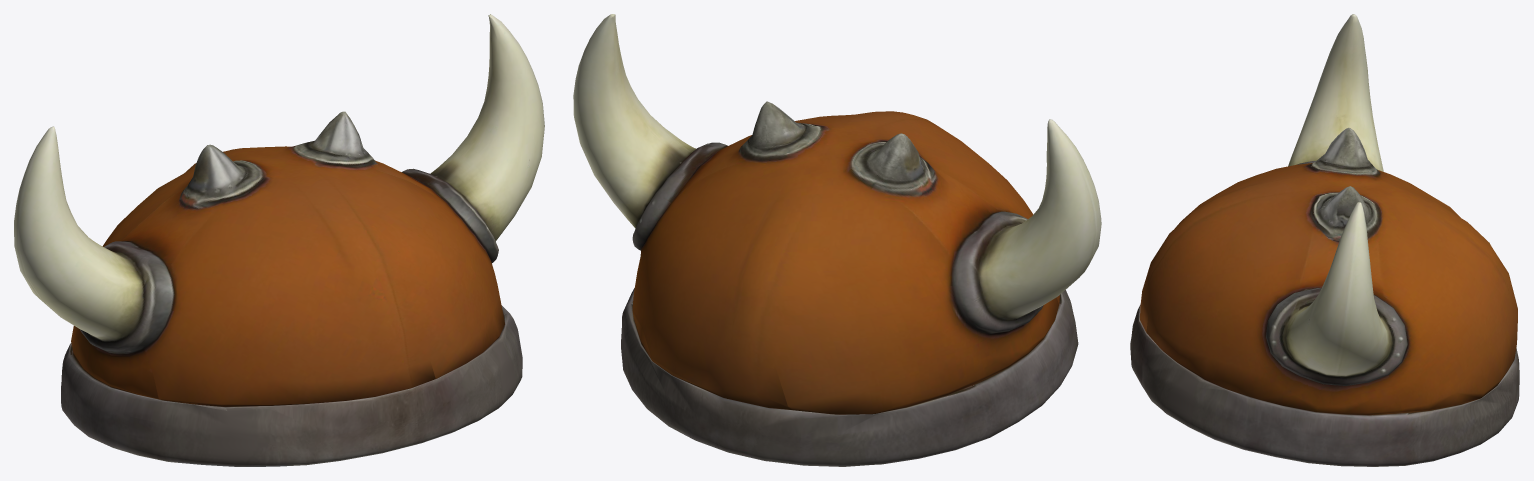
The model's file is Viking-Helmet.glb.
3 views of the same model, side by side, from view 1: azimuth 30°, elevation 25°; view 2: azimuth 150°, elevation 25°; view 3: azimuth 270°, elevation 25° (orthographic). The views are drawn at different scales.
Visible parts, largest first — view 1: Viking-Helmet; view 2: Viking-Helmet; view 3: Viking-Helmet.
Boxes of the visible parts, x1,y1,x2,y2 form: Viking-Helmet: (14, 14, 544, 466); Viking-Helmet: (573, 14, 1101, 466); Viking-Helmet: (1130, 14, 1519, 466).
Bounding box in the file's own units: 0.5905 × 0.3584 × 0.4313.
1 material, 1 textured.
